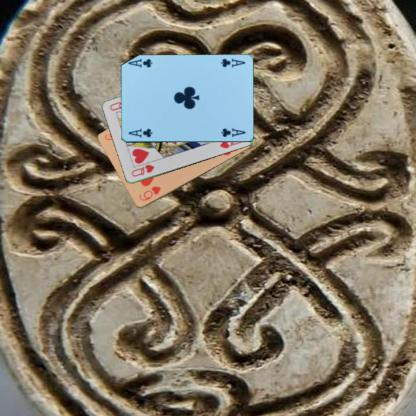6h: (136, 184, 162, 202)
Ac: (218, 55, 246, 69), (125, 126, 154, 139)
Qh: (129, 162, 155, 178)
